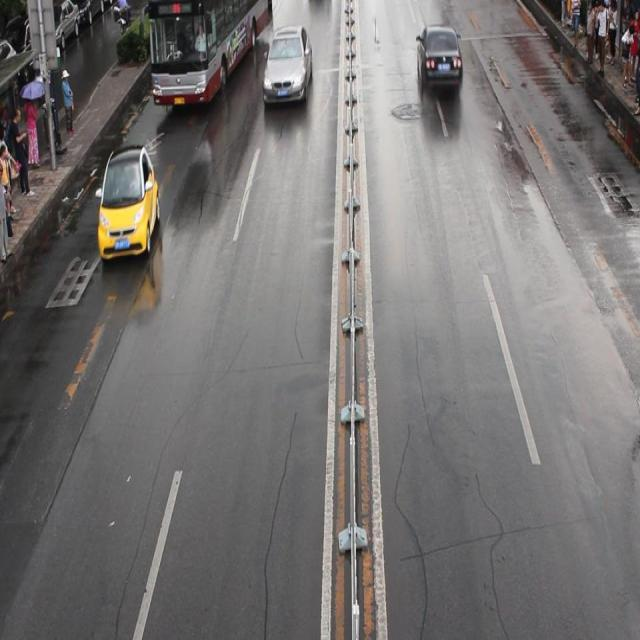car: (97, 146, 161, 257), (265, 24, 311, 102), (414, 23, 463, 93)
van: (147, 1, 270, 104)
